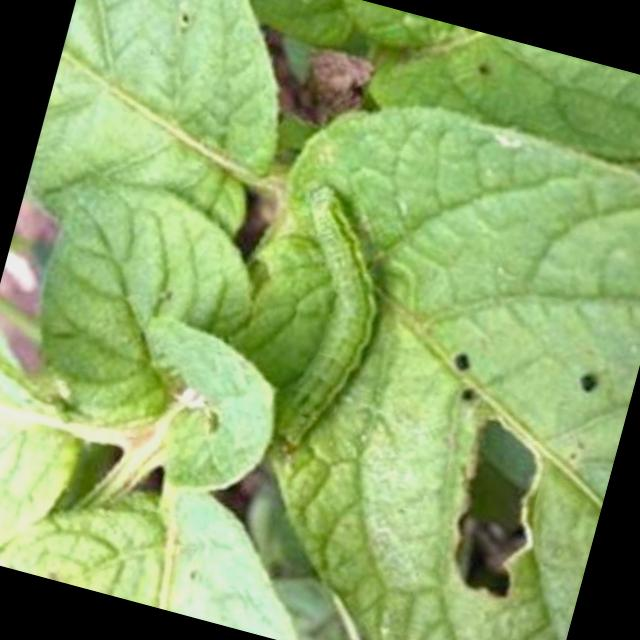Cotton bollworm: (217, 163, 448, 484)
